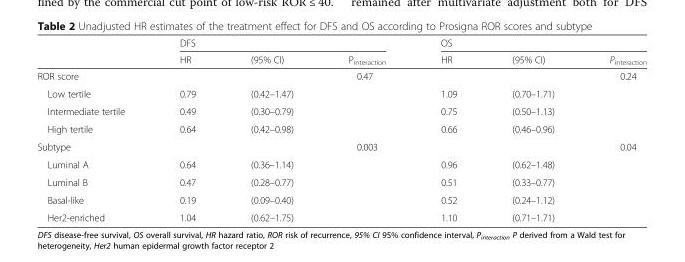table: (36, 36, 645, 222)
table column: (36, 36, 151, 222), (222, 36, 320, 222), (483, 36, 581, 222), (320, 36, 412, 222), (151, 36, 222, 222), (412, 36, 483, 222), (581, 36, 645, 222)
table column header: (36, 36, 645, 67)
table row: (36, 84, 645, 102), (36, 119, 645, 137), (36, 137, 645, 155), (36, 172, 645, 190), (36, 190, 645, 208), (36, 50, 645, 67), (36, 67, 645, 84), (36, 102, 645, 119), (36, 155, 645, 172), (36, 36, 645, 50), (36, 208, 645, 222)
table spanning cell: (151, 36, 412, 50), (412, 36, 645, 50)
